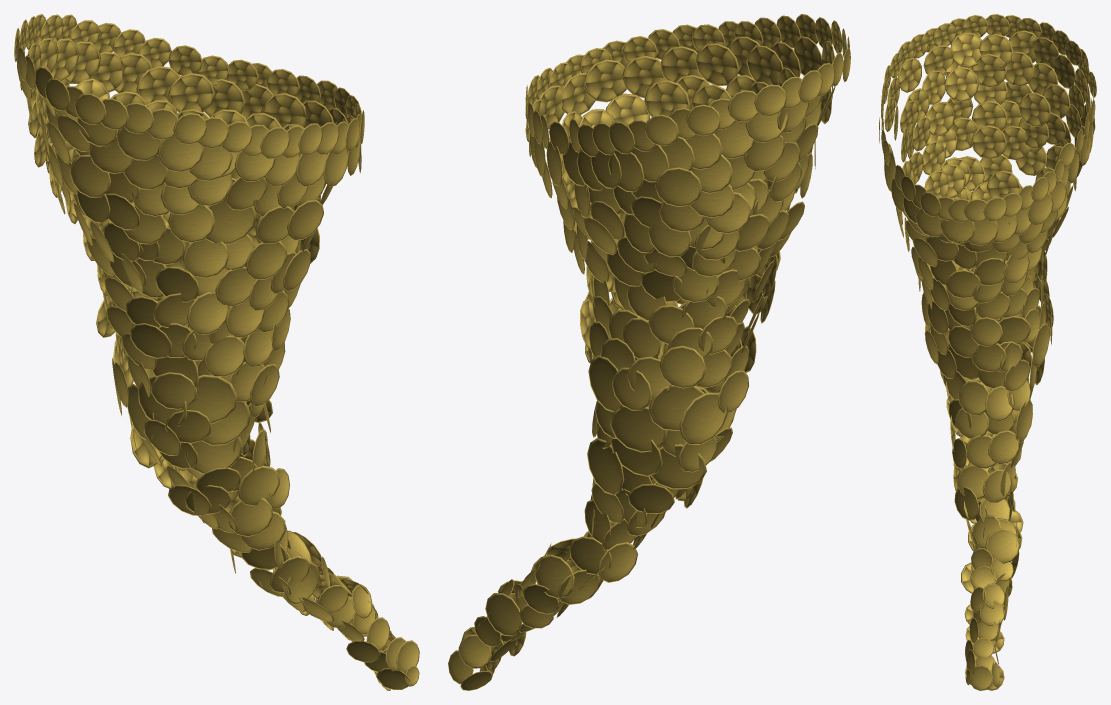
The model's file is Goldentornado.fbx.
3 views of the same model, side by side, from view 1: azimuth 30°, elevation 25°; view 2: azimuth 150°, elevation 25°; view 3: azimuth 270°, elevation 25° (orthographic). The views are drawn at different scales.
Visible parts, largest first — view 1: circle490, circle691, circle56, circle370, circle478, circle434, circle368, circle189, circle689, circle160, circle543, circle191 (+78 smaller); view 2: circle697, circle495, circle429, circle496, circle522, circle90, circle105, circle48, circle525, circle133, circle47, circle600 (+66 smaller); view 3: circle184, circle126, circle612, circle96, circle152, circle68, circle553, circle519, circle158, circle94, circle197, circle545 (+87 smaller).
Boxes of the visible parts, left/top/right/bottom form: circle490: left=186, top=374, right=237, bottom=423; circle691: left=205, top=198, right=256, bottom=244; circle56: left=168, top=73, right=214, bottom=112; circle370: left=182, top=239, right=229, bottom=278; circle478: left=151, top=372, right=196, bottom=409; circle434: left=203, top=335, right=244, bottom=376; circle368: left=187, top=292, right=229, bottom=334; circle189: left=168, top=205, right=215, bottom=242; circle689: left=185, top=437, right=242, bottom=473; circle160: left=69, top=155, right=111, bottom=197; circle543: left=238, top=465, right=279, bottom=506; circle191: left=245, top=241, right=287, bottom=279; circle697: left=610, top=406, right=667, bottom=452; circle495: left=679, top=392, right=728, bottom=444; circle429: left=659, top=345, right=706, bottom=388; circle496: left=648, top=385, right=707, bottom=430; circle522: left=587, top=438, right=624, bottom=495; circle90: left=655, top=167, right=702, bottom=206; circle105: left=695, top=43, right=739, bottom=85; circle48: left=585, top=59, right=626, bottom=102; circle525: left=651, top=444, right=706, bottom=489; circle133: left=644, top=80, right=690, bottom=116; circle47: left=622, top=56, right=666, bottom=98; circle600: left=534, top=554, right=574, bottom=598; circle184: left=971, top=125, right=1006, bottom=159; circle126: left=944, top=66, right=978, bottom=101; circle612: left=985, top=528, right=1019, bottom=563; circle96: left=971, top=53, right=1006, bottom=87; circle152: left=1018, top=92, right=1050, bottom=126; circle68: left=950, top=32, right=981, bottom=67; circle553: left=988, top=430, right=1019, bottom=464; circle519: left=958, top=380, right=990, bottom=415; circle158: left=971, top=100, right=1007, bottom=130; circle94: left=1005, top=51, right=1034, bottom=86; circle197: left=945, top=270, right=981, bottom=298; circle545: left=985, top=386, right=1014, bottom=421.
Bounding box in the file's own units: 4.31 × 7.74 × 2.81.
